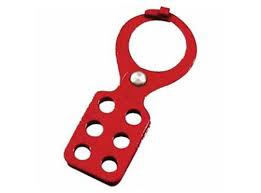hasp: (63, 7, 198, 188)
